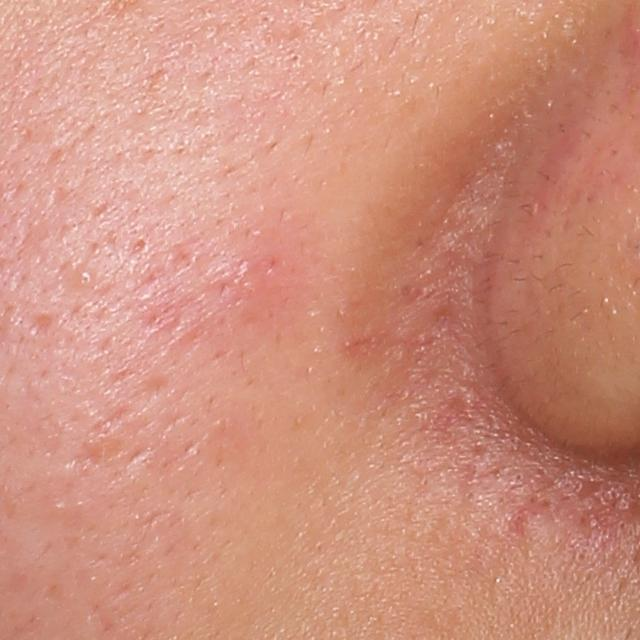atrophic_scar: (509, 494, 554, 542), (17, 306, 66, 339)
comedo: (72, 264, 97, 290)
